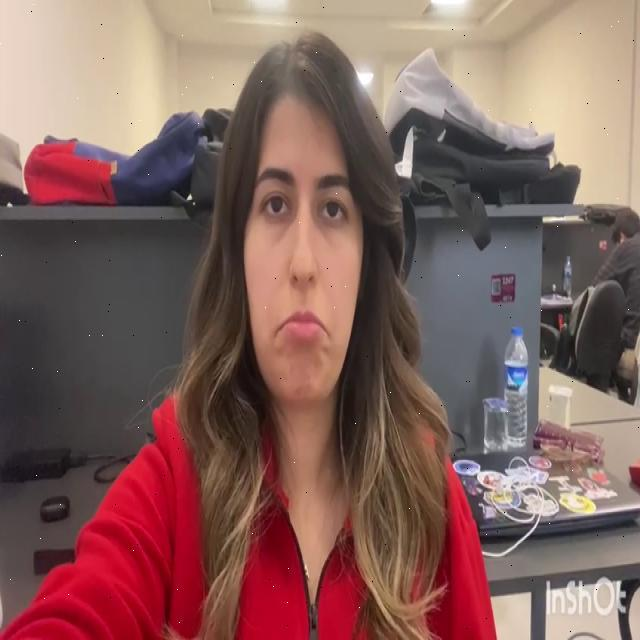sad: (236, 105, 370, 390)
